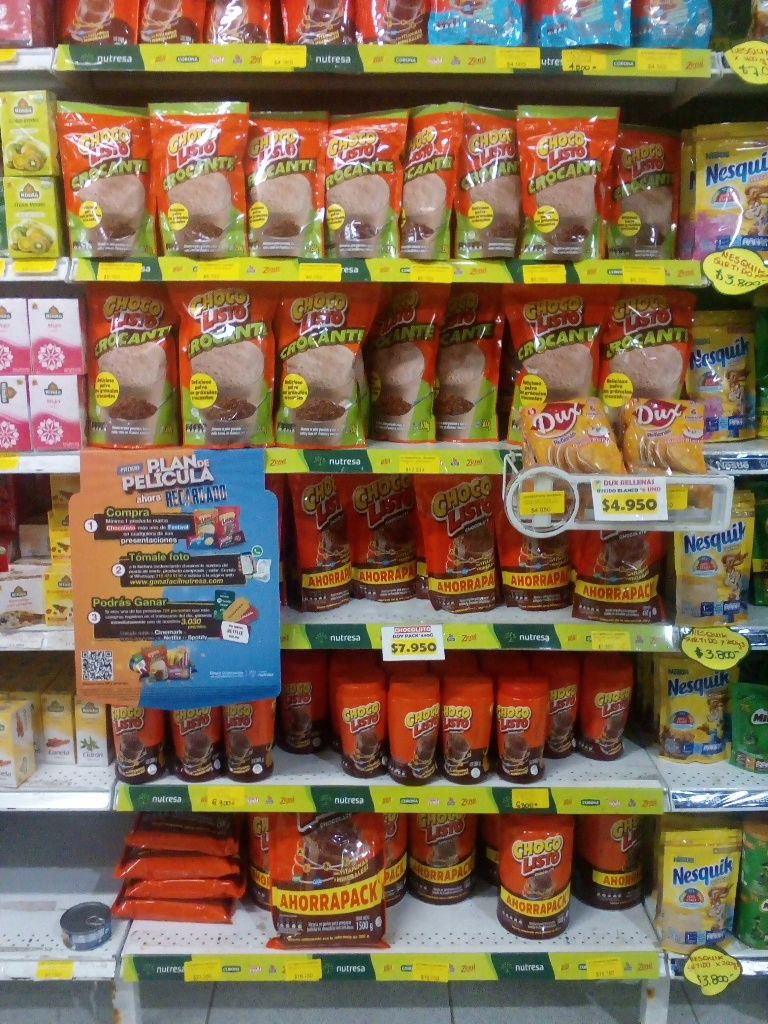COL0170102DYP25000: (44, 90, 152, 252)
COL0170102DYP50000: (77, 278, 180, 446)
COL0170103DYP1,500: (262, 804, 393, 955)
COL0170103DYP44000: (272, 467, 353, 615)
COL0170103TRR00100: (496, 813, 577, 939)
COL0170103TRR30000: (326, 666, 386, 777)
COL0170203DYP10000: (728, 681, 768, 768)
COL0170203LAT20000: (735, 816, 766, 891)
COL0170303DYP20000: (649, 645, 731, 768)
COL0170305DYP20000: (681, 110, 767, 254)
COL0170306DYP20000: (653, 819, 738, 950)
